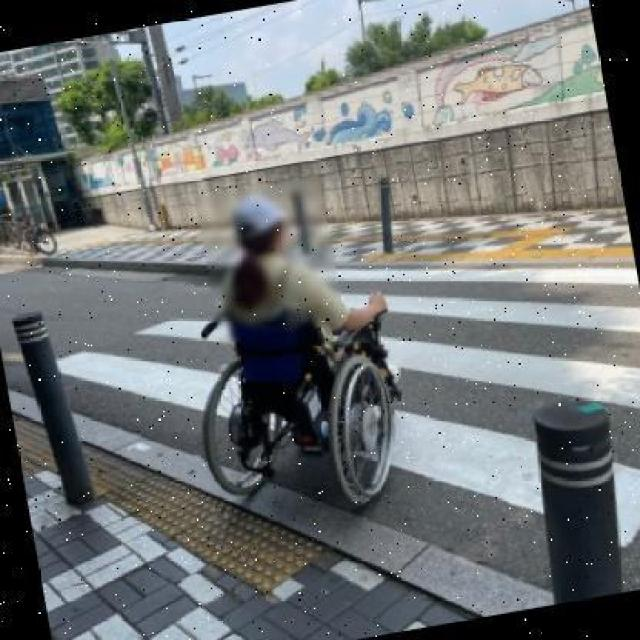Person: (161, 179, 424, 530)
